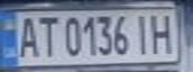0: (60, 14, 81, 57)
1: (78, 12, 96, 56)
3: (93, 12, 115, 56)
6: (112, 11, 133, 56)
A: (12, 14, 42, 58)
H: (145, 10, 178, 54)
I: (130, 11, 157, 55)
T: (33, 12, 60, 59)
